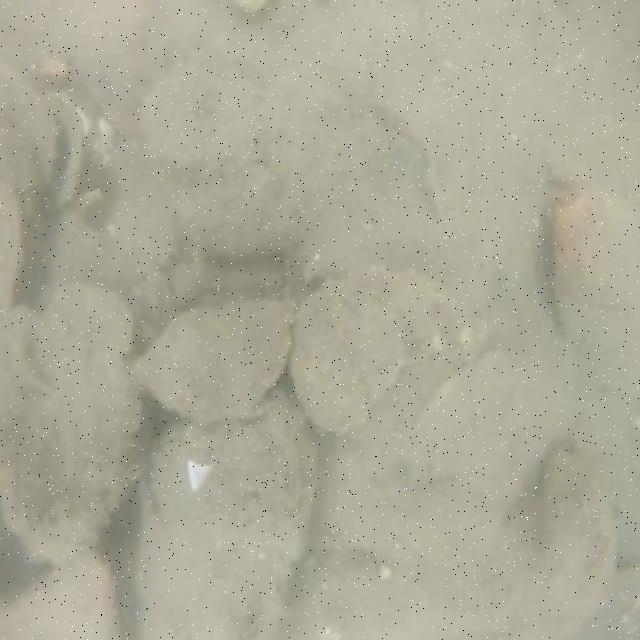Oyster-Closed: (140, 65, 352, 274), (138, 392, 313, 640), (0, 285, 142, 559), (291, 268, 453, 428), (136, 300, 287, 424), (518, 450, 611, 630)
